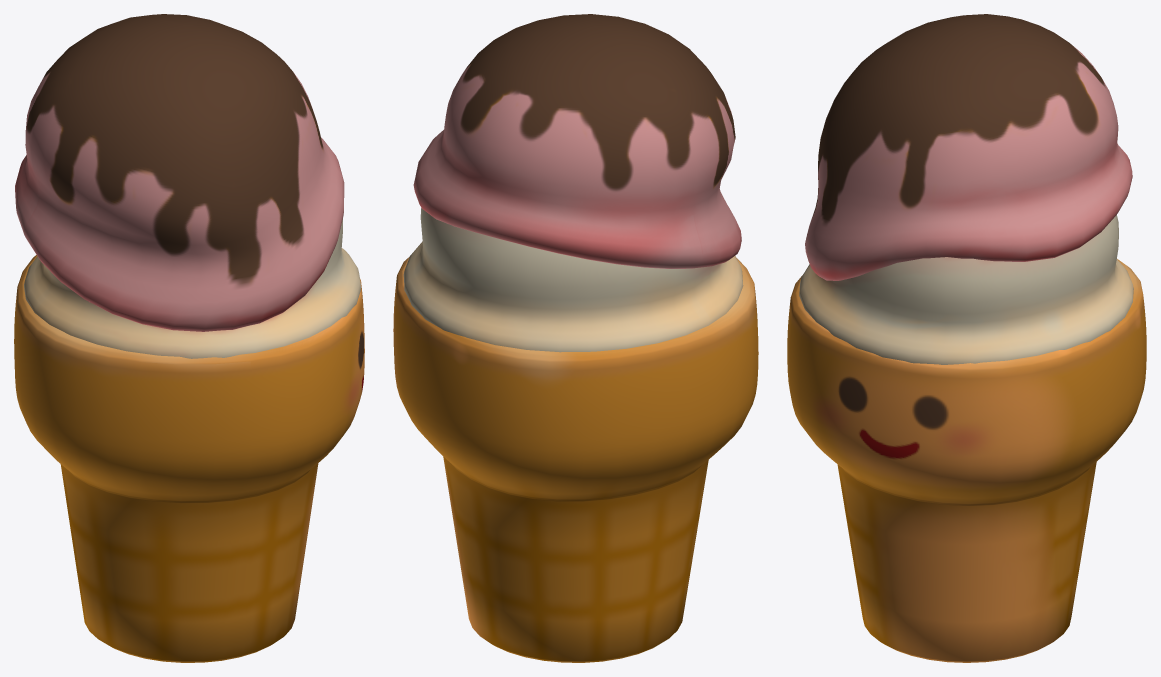
File: ice-cream.fbx
The picture shows the model from 3 angles, left to right: view 1: azimuth 30°, elevation 25°; view 2: azimuth 150°, elevation 25°; view 3: azimuth 270°, elevation 25°; orthographic projection. The views are drawn at different scales.
Visible parts, largest first — view 1: Cube.035, Cube.037, Cube.036; view 2: Cube.035, Cube.037, Cube.036; view 3: Cube.035, Cube.037, Cube.036.
Part boxes in pixels (x1=…): Cube.035: x1=14, y1=255, x2=364, y2=662; Cube.037: x1=15, y1=14, x2=344, y2=331; Cube.036: x1=24, y1=219, x2=361, y2=358; Cube.035: x1=393, y1=257, x2=758, y2=662; Cube.037: x1=413, y1=14, x2=741, y2=268; Cube.036: x1=403, y1=208, x2=743, y2=352; Cube.035: x1=787, y1=259, x2=1146, y2=662; Cube.037: x1=805, y1=14, x2=1132, y2=280; Cube.036: x1=799, y1=215, x2=1133, y2=364.
Size of the model in its own units: 206 by 368 by 206.
